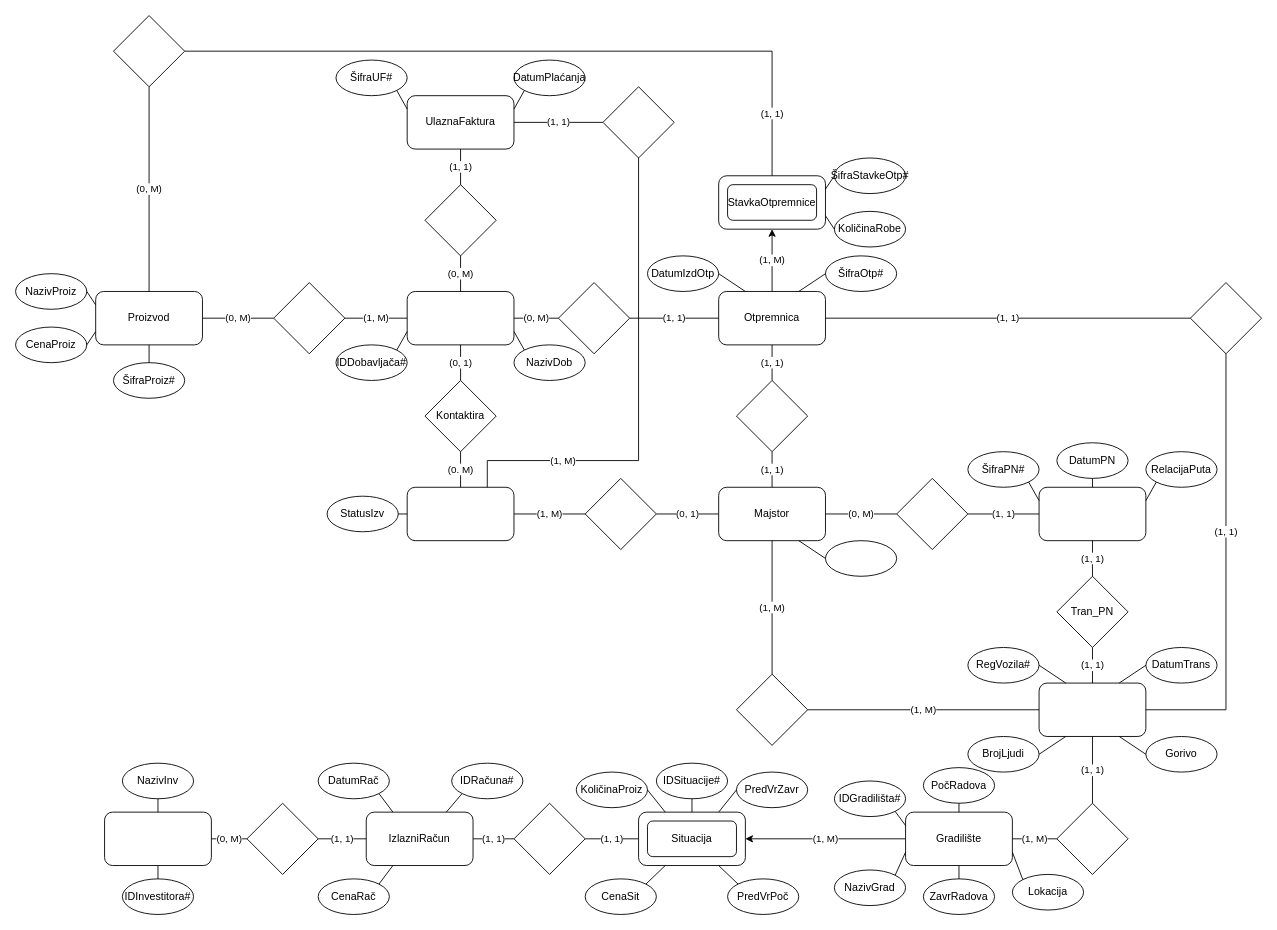
Some shapes in this 1277 by 930 pixel diagram are drawn without their labels. The centre of each missing label's shape, as x and y in pixels:
"Angažuje" goes at [620,513].
"Dobavljač" goes at [460,318].
"Investitor" goes at [157,838].
"IzdavanjeOT" goes at [594,318].
"IzdavanjeUF" goes at [460,220].
"Izv_UF" goes at [638,122].
"Izvodjač" goes at [460,513].
"Otp_Proiz" goes at [149,51].
"PišePN" goes at [932,513].
"Predaja" goes at [282,838].
"Prodaje" goes at [309,318].
"PutniNalog" goes at [1092,513].
"Rad_Otp" goes at [772,416].
"Sit_Rač" goes at [549,838].
"Specijalizacija" goes at [861,558].
"Tran_Otp" goes at [1225,318].
"Trans_Grad" goes at [1092,838].
"Transport" goes at [1092,709].
"Vrši" goes at [772,709].
